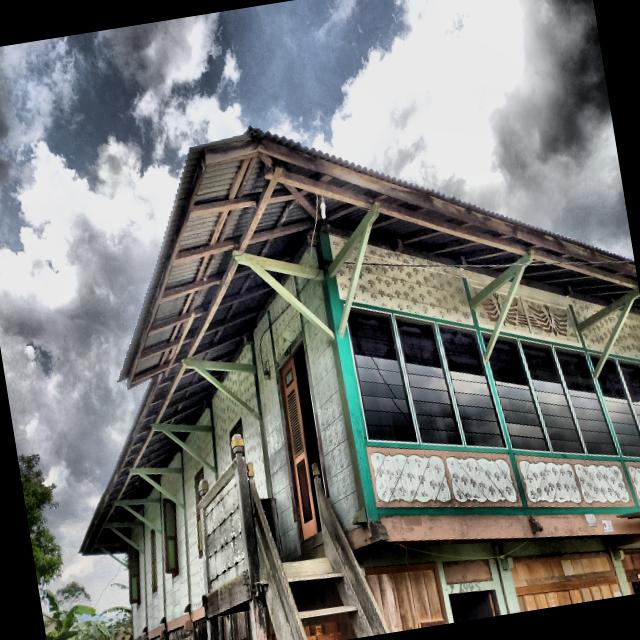door: (278, 339, 325, 543), (449, 589, 501, 623)
ornamen: (366, 446, 523, 508), (514, 455, 636, 508), (624, 461, 640, 507)
roof: (81, 127, 639, 553), (319, 222, 325, 225)
stair: (247, 462, 390, 640)
wall: (347, 242, 523, 509), (489, 284, 636, 507), (253, 294, 362, 564), (598, 312, 640, 507), (511, 551, 620, 612), (211, 389, 268, 498), (365, 563, 449, 633), (182, 448, 216, 612), (161, 492, 189, 622), (145, 523, 164, 632), (474, 281, 512, 330), (582, 310, 624, 352), (222, 371, 259, 414), (336, 243, 359, 300), (132, 551, 146, 640), (184, 432, 215, 468), (571, 298, 606, 323), (465, 271, 495, 300), (160, 474, 184, 504), (165, 622, 196, 640), (329, 235, 349, 260), (143, 503, 161, 530), (130, 526, 144, 550)
window: (348, 311, 415, 442), (396, 318, 461, 444), (439, 325, 505, 447), (522, 343, 583, 453), (489, 339, 548, 451), (556, 349, 616, 455), (598, 359, 640, 457), (619, 362, 640, 426), (163, 498, 179, 578), (194, 466, 204, 558), (128, 544, 141, 605), (150, 528, 157, 595)
